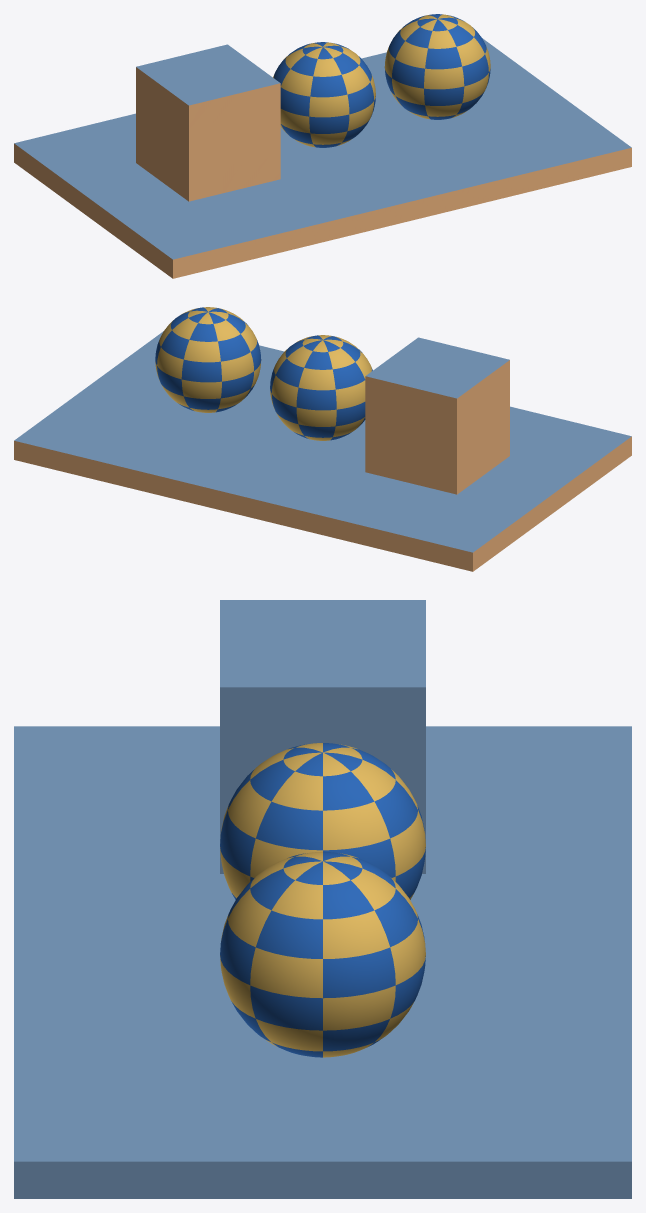
The model's file is material_gallery.gltf.
3 views of the same model, one above another, from view 1: azimuth 30°, elevation 25°; view 2: azimuth 150°, elevation 25°; view 3: azimuth 270°, elevation 25° (orthographic). The views are drawn at different scales.
Parts seen in each view (by area): view 1: Floor, Copper / ceramic cube, Second textured sphere, Metallic roughness sphere; view 2: Floor, Copper / ceramic cube, Second textured sphere, Metallic roughness sphere; view 3: Floor, Copper / ceramic cube, Second textured sphere, Metallic roughness sphere.
Part boxes in pixels (x1=…): Floor: x1=14, y1=38, x2=631, y2=278; Copper / ceramic cube: x1=136, y1=44, x2=280, y2=201; Second textured sphere: x1=384, y1=14, x2=490, y2=119; Metallic roughness sphere: x1=273, y1=42, x2=375, y2=147; Floor: x1=14, y1=331, x2=631, y2=571; Copper / ceramic cube: x1=365, y1=337, x2=509, y2=494; Second textured sphere: x1=155, y1=307, x2=261, y2=412; Metallic roughness sphere: x1=270, y1=335, x2=372, y2=440; Floor: x1=14, y1=726, x2=631, y2=1198; Copper / ceramic cube: x1=220, y1=600, x2=425, y2=873; Second textured sphere: x1=220, y1=851, x2=425, y2=1057; Metallic roughness sphere: x1=220, y1=743, x2=425, y2=899.
Bounding box in the file's own units: 10 × 2.45 × 6.
3 materials, 1 textured.
